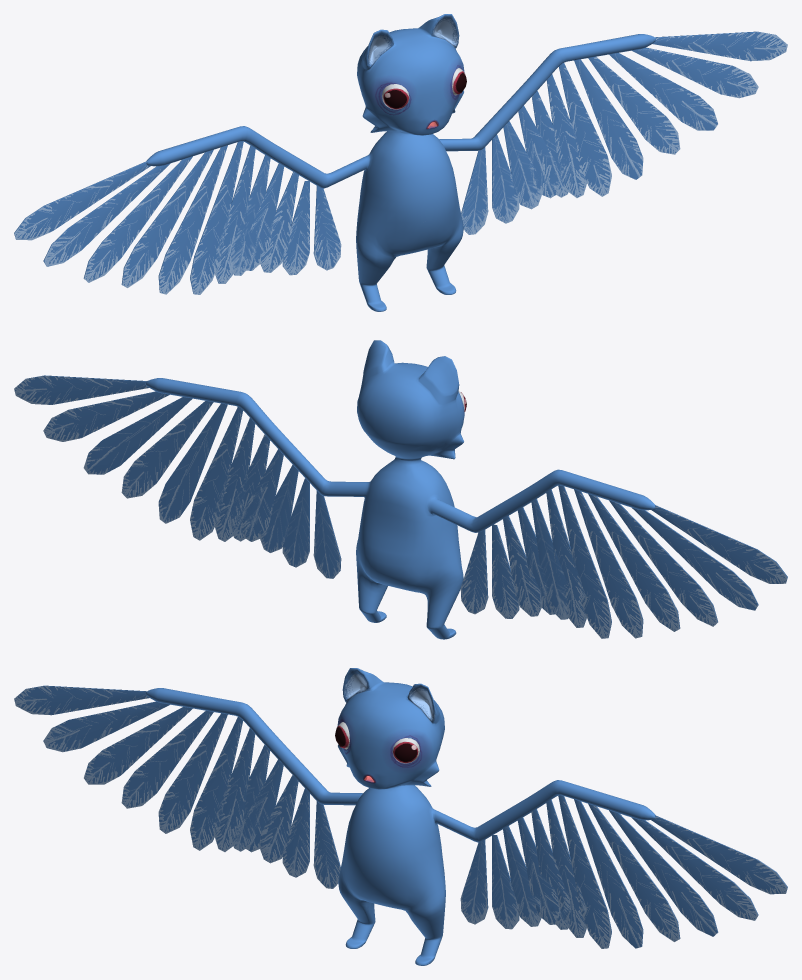
The model's file is anavolador.gltf.
3 views of the same model, one above another, from view 1: azimuth 30°, elevation 25°; view 2: azimuth 150°, elevation 25°; view 3: azimuth 330°, elevation 25° (orthographic).
Parts seen in each view (by area): view 1: BODY, RightEye; view 2: BODY; view 3: BODY, LeftEye.
Part boxes in pixels (bbox=[...]): BODY: bbox=[14, 14, 787, 311]; RightEye: bbox=[382, 84, 409, 109]; BODY: bbox=[14, 340, 787, 639]; BODY: bbox=[14, 668, 787, 965]; LeftEye: bbox=[392, 738, 419, 763].
Bounding box in the file's own units: 0.9794 × 0.3366 × 0.1058.
1 material, 1 textured.
